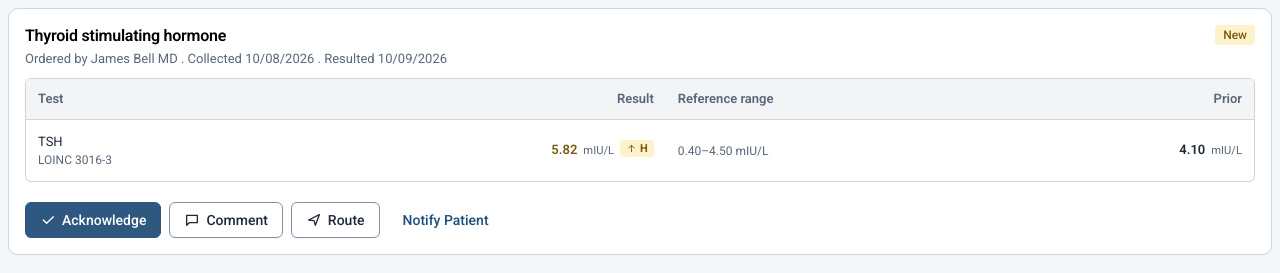
ResultsReview › acknowledges a routine result straight away
This screenshot has width=1280, height=273.
Click the button "Acknowledge".
click(93, 220)  # box [25,202,161,238]
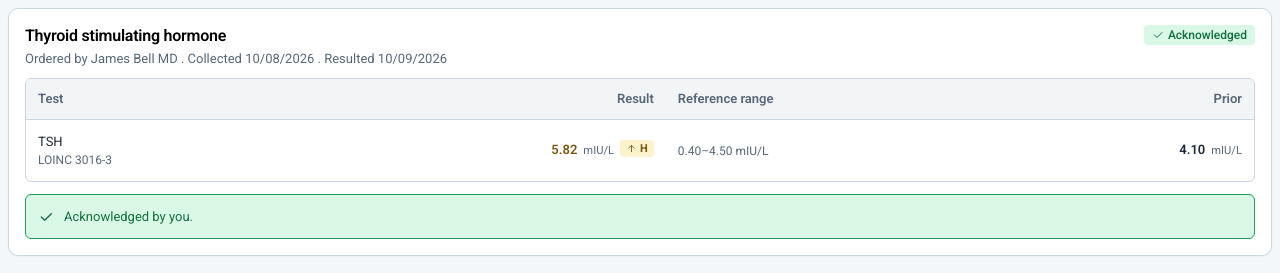
expect the text "Acknowledged by you." is shown: met, box [64,209,193,224]
